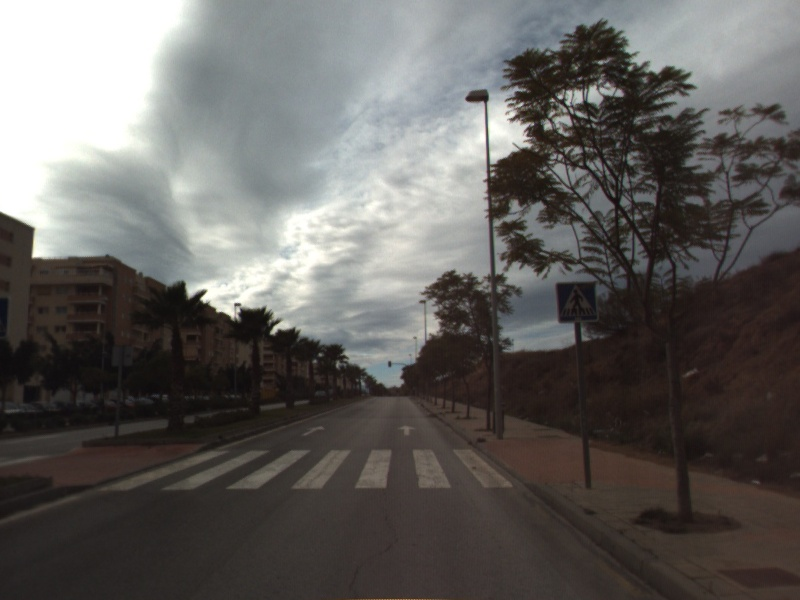STRAIGHT: (300, 424, 327, 438), (396, 423, 418, 438)
